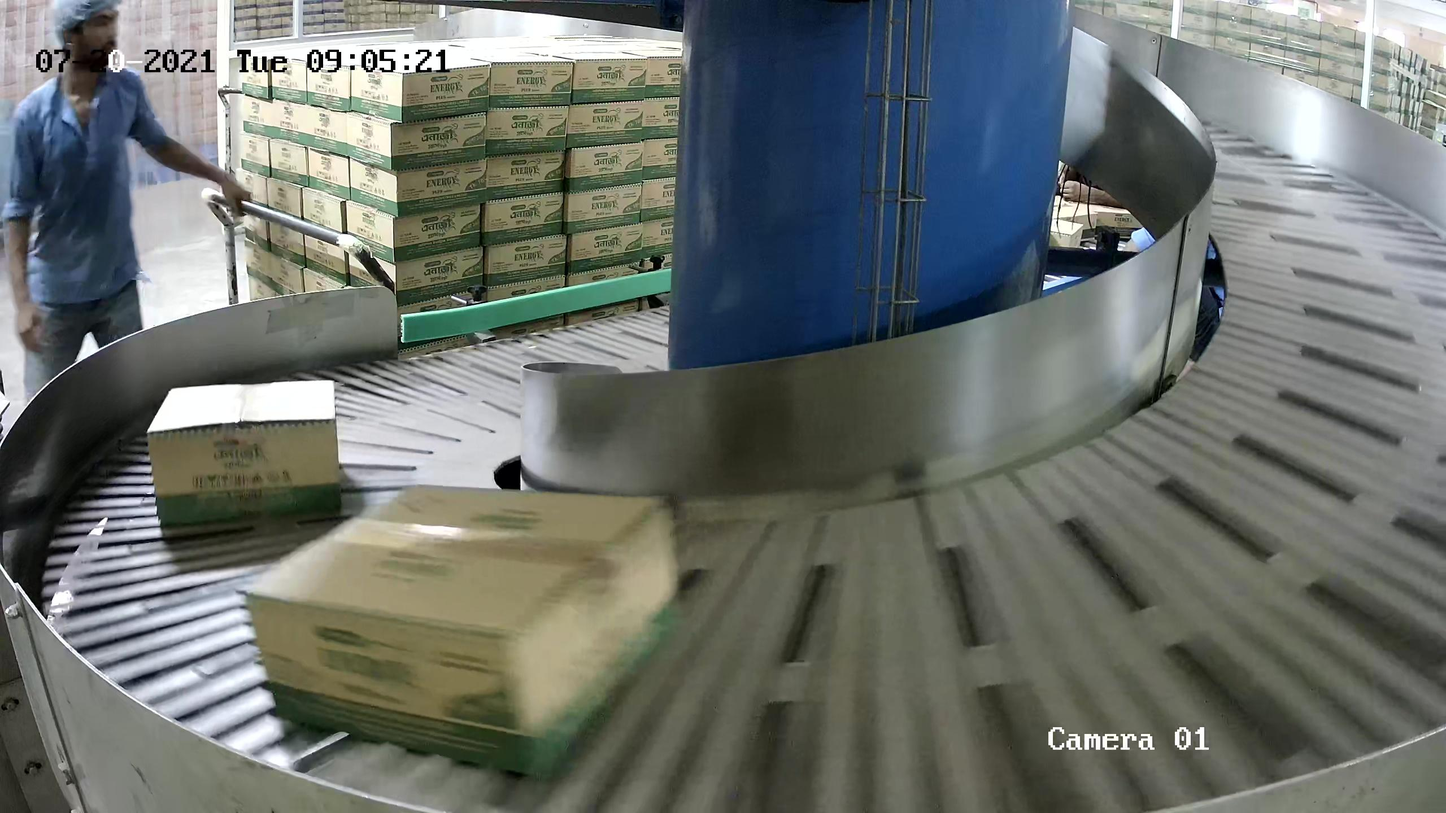Box: (240, 481, 685, 784), (147, 379, 343, 538)
